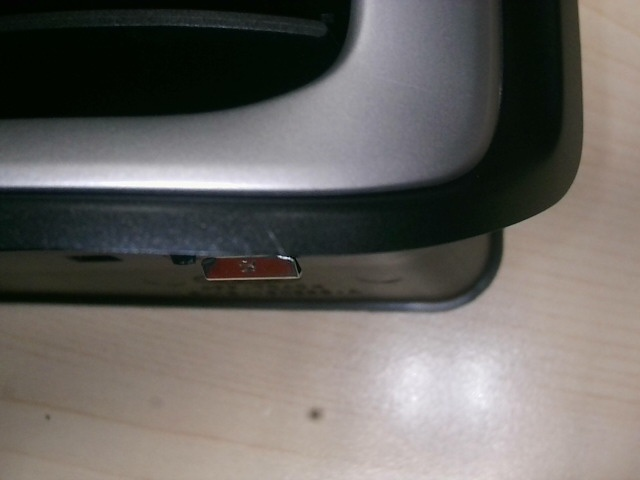NG: (226, 218, 309, 266)
